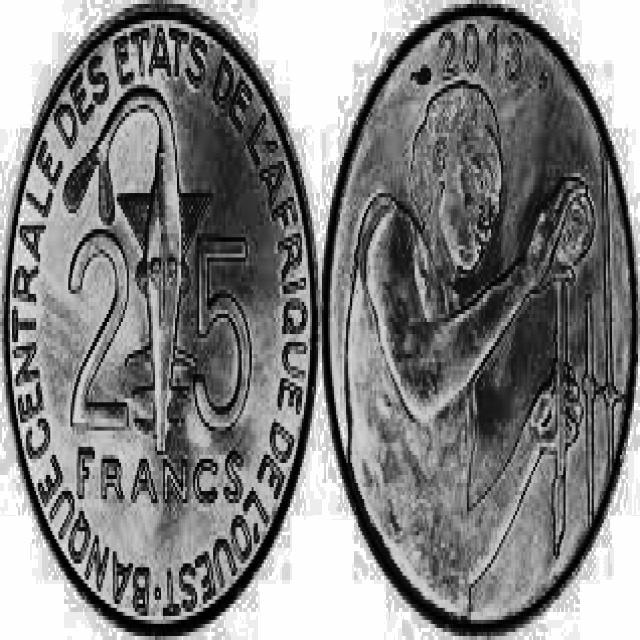juroom derem: (6, 7, 315, 623), (327, 13, 634, 620)
